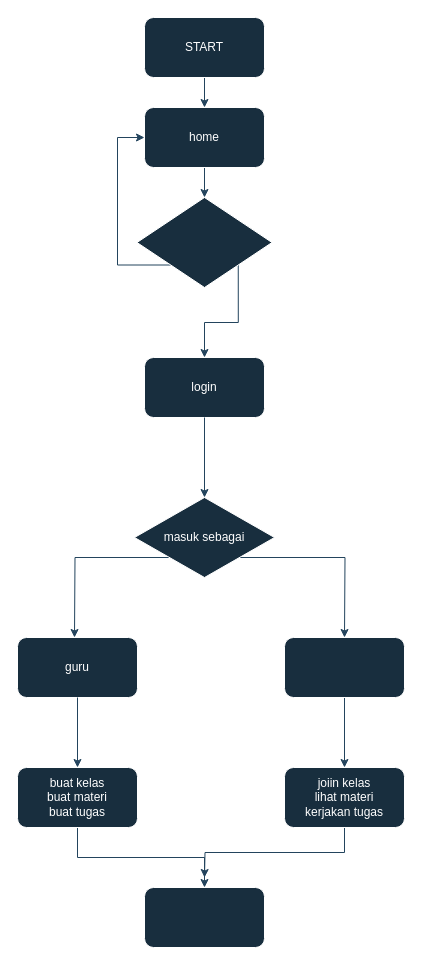
The diagram is 422 pixels wide and 965 high, and some of its shapes have lost their labels. The shapes that lost their labels are listed below. From the top down, each one's box as (x1, y1, x2, y2) in pixels, then its label:
(136, 196, 272, 288): Apakah sudah login?
(284, 636, 404, 698): siswa
(144, 886, 264, 948): logout
